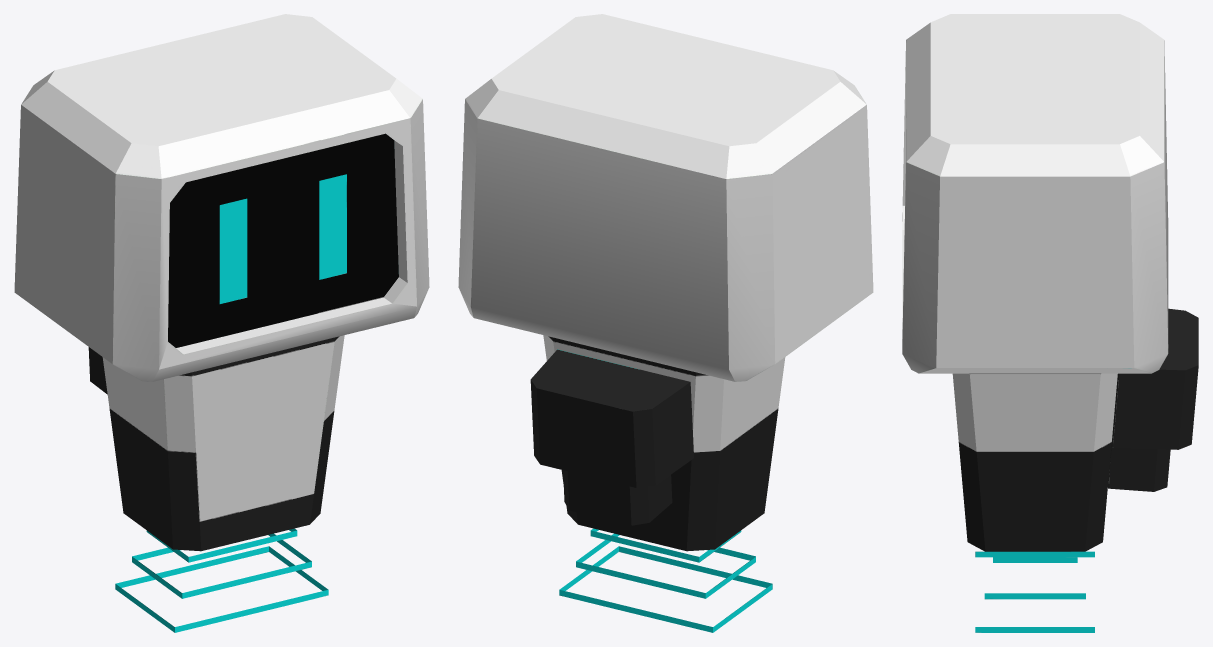
The model's file is player.glb.
The picture shows the model from 3 angles, left to right: view 1: azimuth 30°, elevation 25°; view 2: azimuth 150°, elevation 25°; view 3: azimuth 270°, elevation 25°; orthographic projection.
Parts seen in each view (by area): view 1: Cube.001; view 2: Cube.001; view 3: Cube.001.
Boxes of the visible parts, <box> form: Cube.001: <box>14,14,429,632</box>; Cube.001: <box>458,14,873,632</box>; Cube.001: <box>902,14,1198,632</box>.
Size of the model in its own units: 1.86 by 2.87 by 1.49.
Materials: 1 (1 with a texture image).
